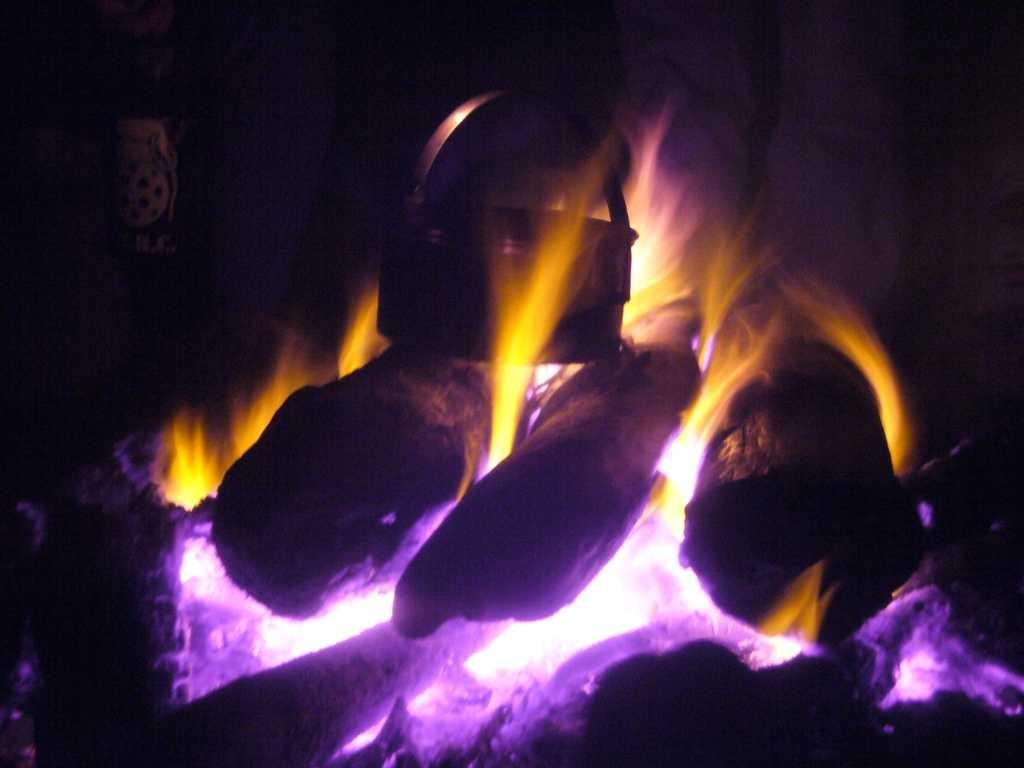fire: (526, 232, 578, 326), (172, 426, 218, 502), (874, 342, 902, 454), (498, 294, 518, 428), (348, 304, 384, 370), (706, 232, 742, 292)
